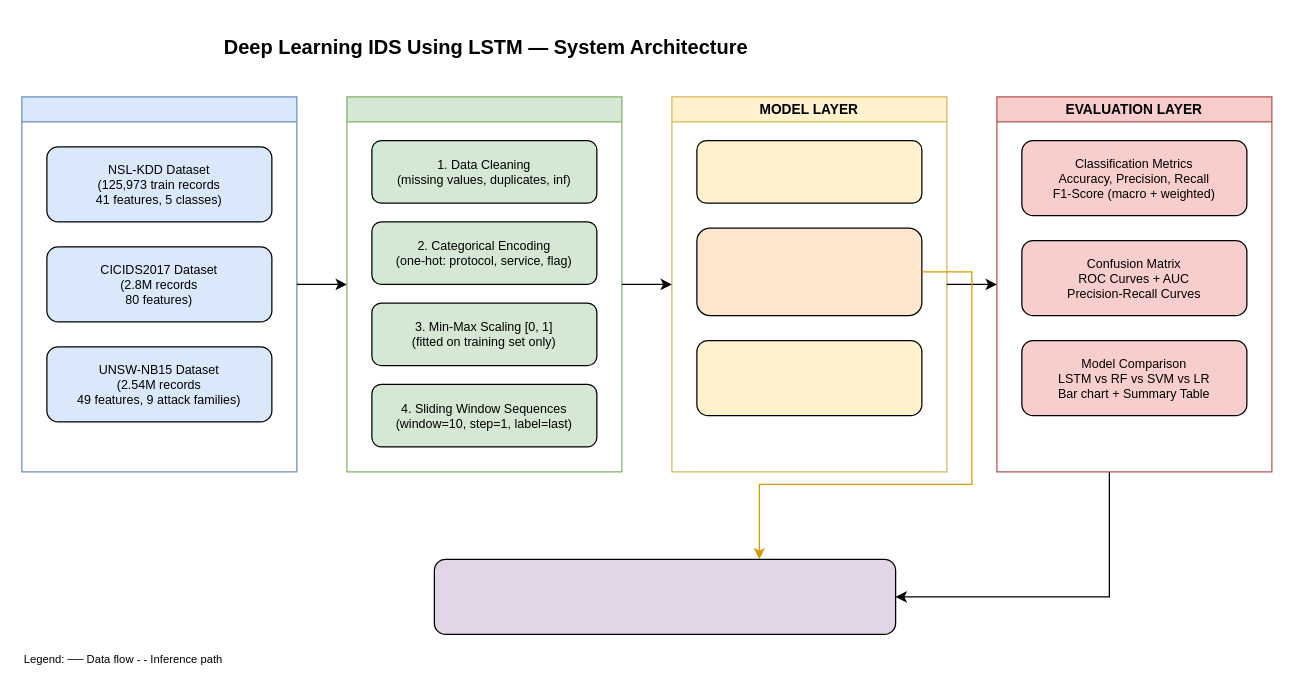
Some shapes in this 1294 by 693 pixel diagram are drawn without their labels. The box of each missing label's shape, as (x1, y1, x2, y2) in pixels:
Baseline Models Random Forest | SVM Logistic Regression: (696, 339, 922, 416)
DATA SOURCE LAYER: (21, 96, 297, 472)
IDS PREDICTION OUTPUT Normal / DoS / Probe / R2L / U2R + Confidence Score: (433, 558, 896, 634)
LSTM Model 128→64 units | Dropout(0.2) Dense(32, ReLU, L2) | Softmax: (696, 227, 922, 316)
PREPROCESSING LAYER: (346, 96, 622, 472)
Train / Val / Test Split 70% / 15% / 15% (Stratified): (696, 139, 922, 203)
